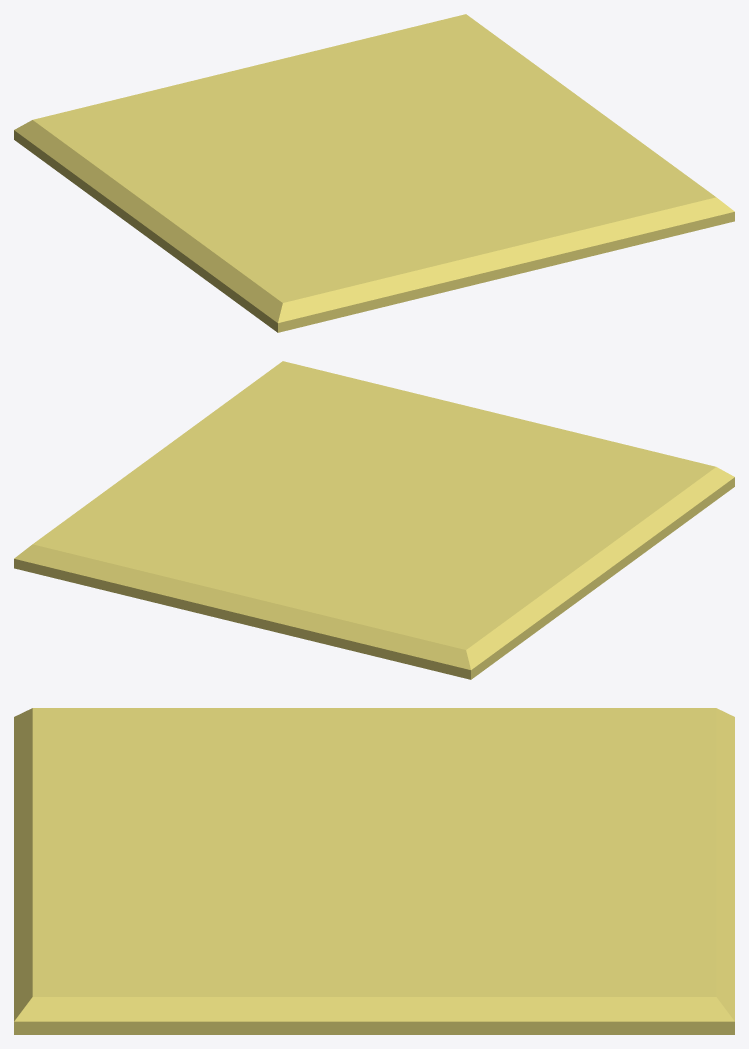
The picture shows the model from 3 angles, top to bottom: view 1: azimuth 30°, elevation 25°; view 2: azimuth 150°, elevation 25°; view 3: azimuth 270°, elevation 25°; orthographic projection. The views are drawn at different scales.
Visible parts, largest first — view 1: Base; view 2: Base; view 3: Base.
Part boxes in pixels (box(x1,y1,x2,y2)): Base: box(14, 14, 734, 332); Base: box(14, 361, 734, 679); Base: box(14, 708, 734, 1034).
Size of the model in its own units: 92.21 by 4.24 by 92.21.
